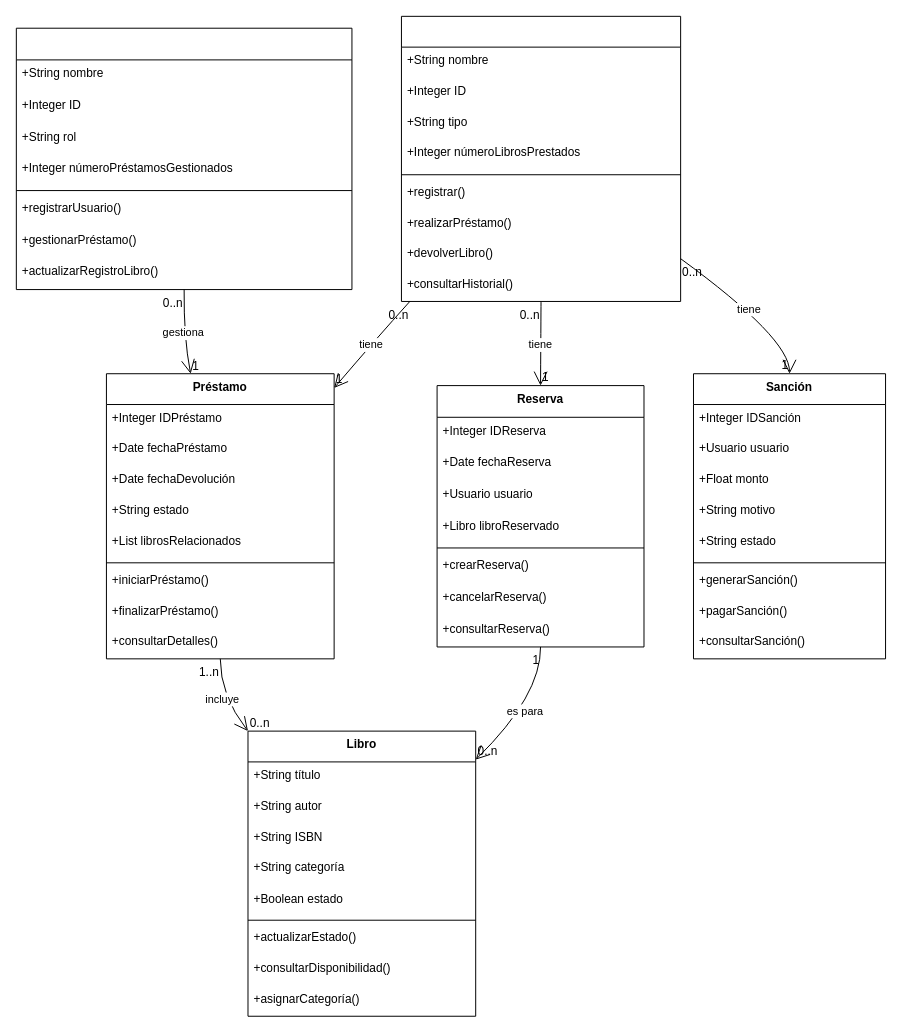
Some shapes in this 902 by 1033 pixel diagram are drawn without their labels. The box of each missing label's shape, as (x1, y1, x2, y2) in pixels:
Empleado: (15, 27, 352, 290)
Usuario: (400, 15, 681, 301)
